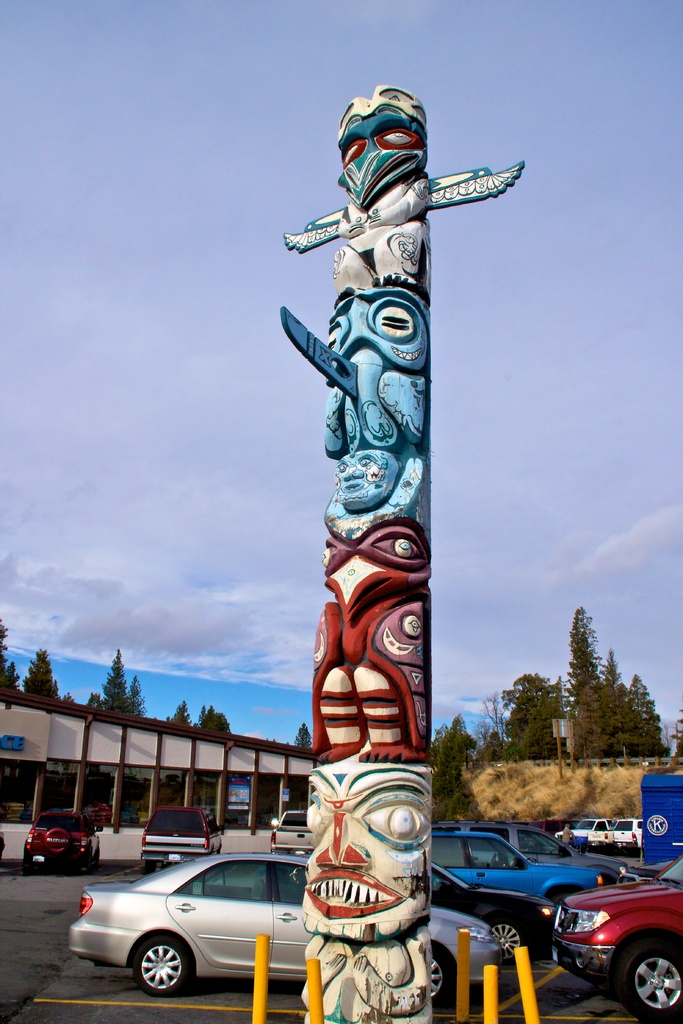Car: (65, 847, 503, 992), (429, 819, 601, 950), (545, 861, 682, 1023), (142, 801, 219, 873), (22, 805, 104, 864), (265, 808, 314, 854)
